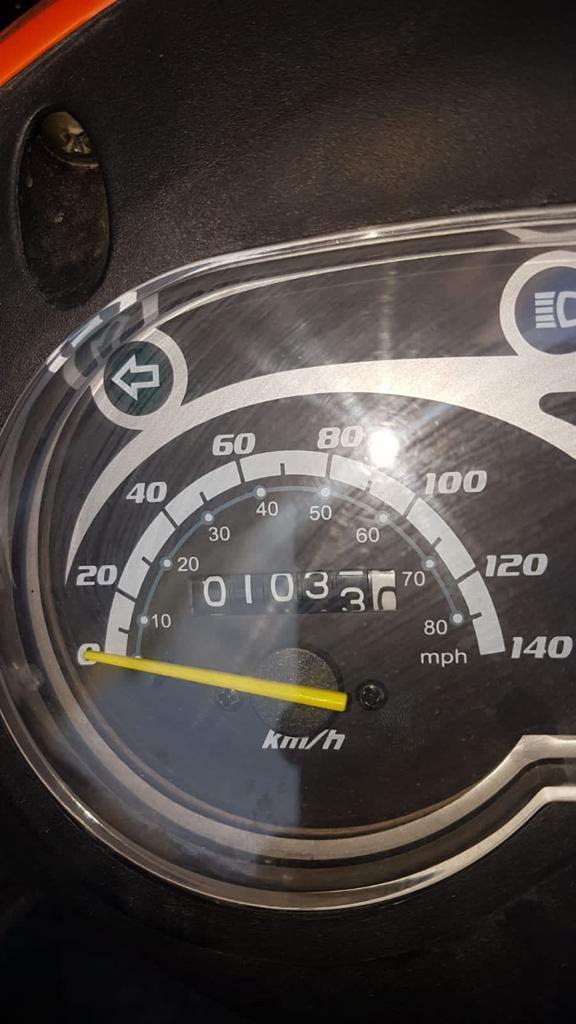0: (201, 572, 227, 609), (269, 571, 296, 602), (375, 581, 401, 613)
1: (239, 572, 258, 611)
3: (304, 570, 330, 604), (339, 584, 367, 615)
odometer: (185, 569, 405, 617)
